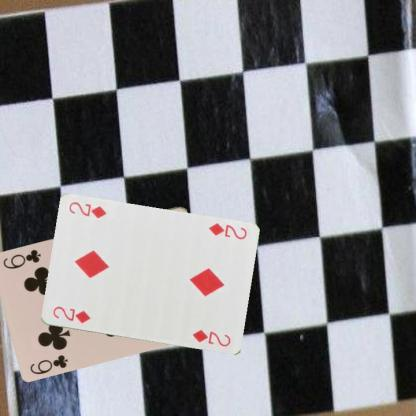2d: (50, 304, 91, 325), (206, 221, 248, 241)
6c: (28, 352, 70, 375)
